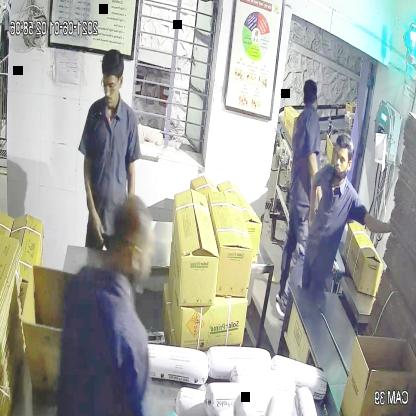no_goggles: (333, 147, 353, 169)
